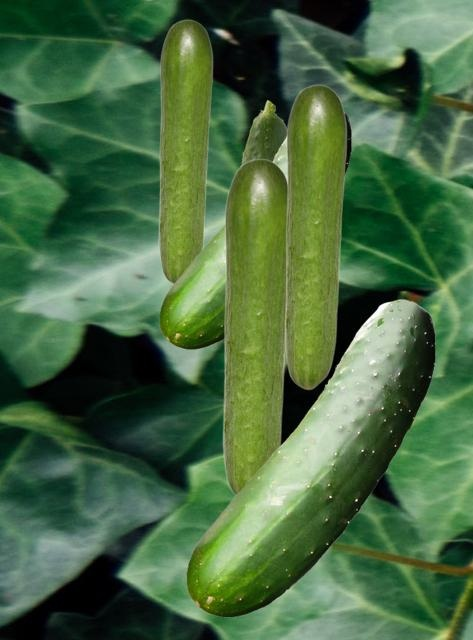cucumber: (186, 299, 434, 616), (159, 112, 350, 348), (222, 158, 286, 495), (284, 84, 346, 389), (158, 19, 212, 284), (240, 100, 286, 163)
